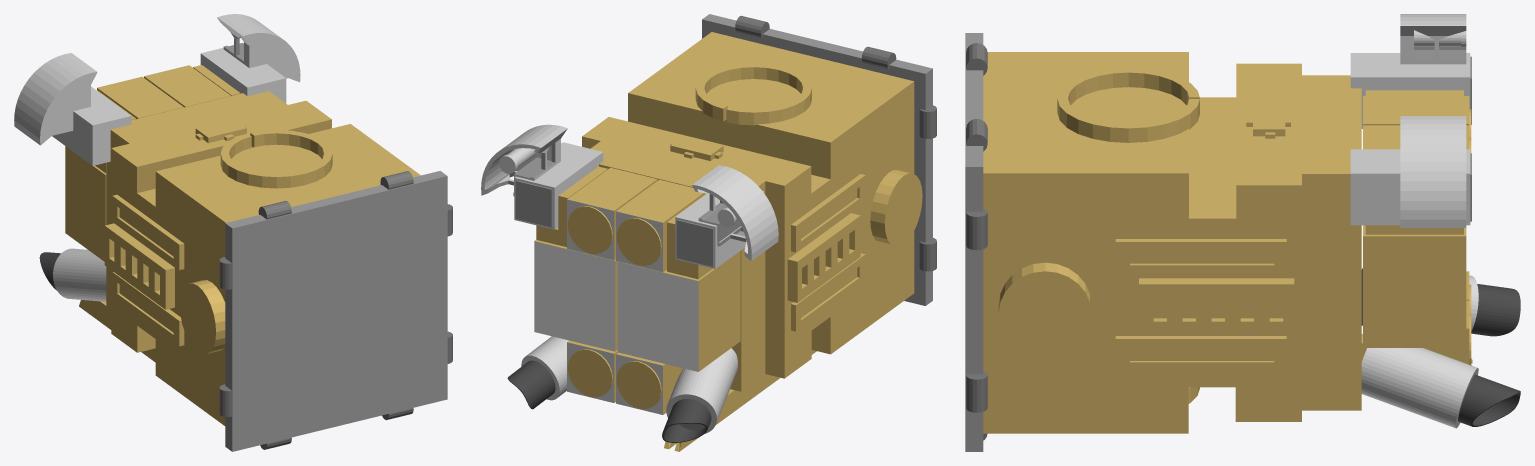
Rendered from High Energy Transient Explorer.glb.
The picture shows the model from 3 angles, left to right: view 1: azimuth 30°, elevation 25°; view 2: azimuth 150°, elevation 25°; view 3: azimuth 270°, elevation 25°; orthographic projection. The views are drawn at different scales.
Visible parts, largest first — view 1: <LWODefault>; view 2: <LWODefault>; view 3: <LWODefault>.
Part boxes in pixels (<box>): <LWODefault>: <box>14,14,452,451</box>; <LWODefault>: <box>481,14,936,451</box>; <LWODefault>: <box>965,14,1520,451</box>.
Bounding box in the file's own units: 1.08 × 1.02 × 1.56.
